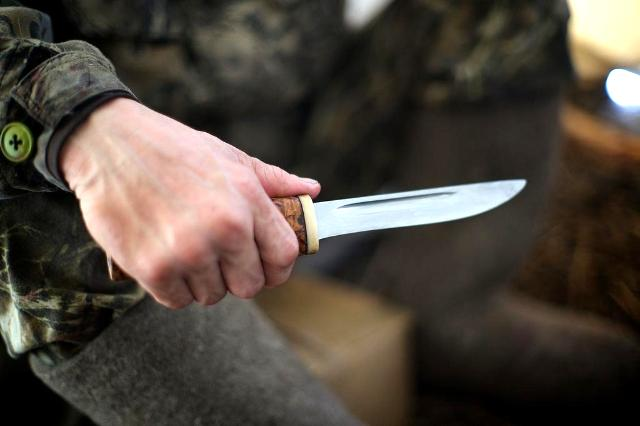pocket-knife: (148, 168, 540, 314)
